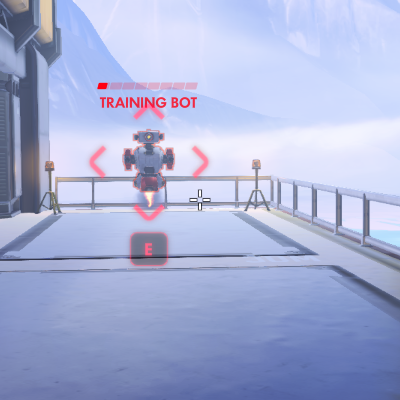hpbar: (96, 82, 198, 90)
